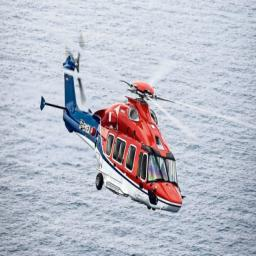helicopter: (38, 29, 187, 220)
